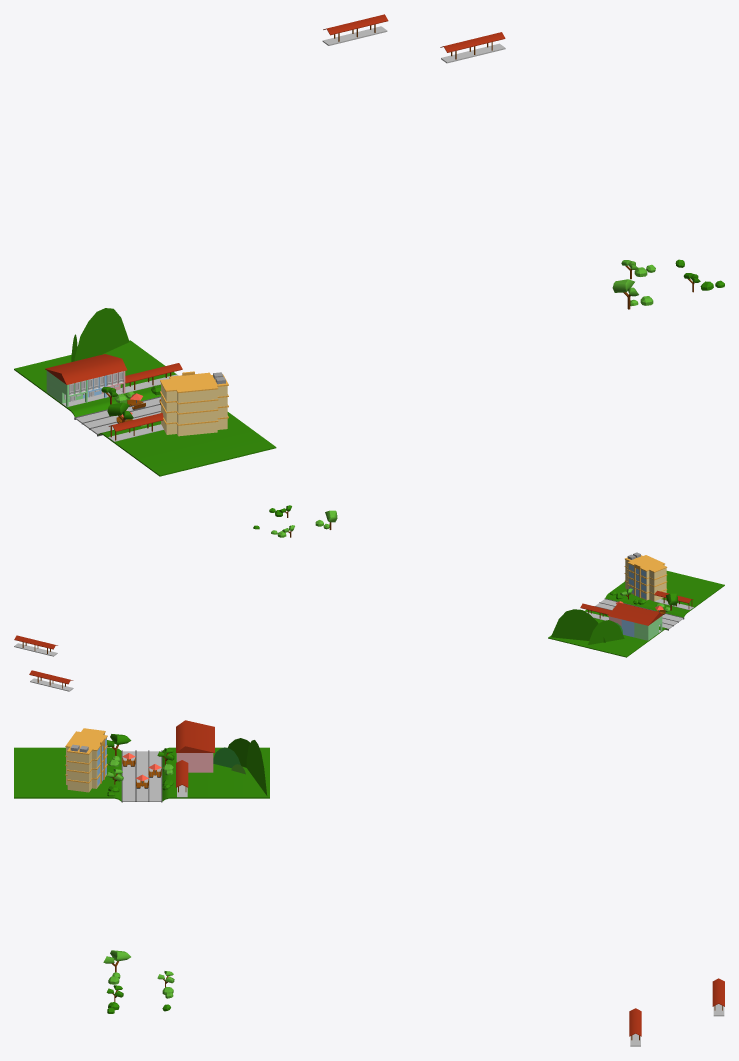
File: Level 3 Chunk 1.fbx
The picture shows the model from 3 angles, top to bottom: view 1: azimuth 30°, elevation 25°; view 2: azimuth 150°, elevation 25°; view 3: azimuth 270°, elevation 25°; orthographic projection. The views are drawn at different scales.
Visible parts, largest first — view 1: pCube6861, pPlane1036, Triple_shop_houses18, pCube6862, pasted__pasted__pCube5519, pCube6856; view 2: pCube6861, pPlane1036, Triple_shop_houses18, pasted__pasted__pCube5519, pCube6862, pasted__pCube5622, pCube6856; view 3: pCube6861, pCube6862, pPlane1036, Triple_shop_houses18, pCube6856, pasted__pasted__pCube5519.
Part boxes in pixels (x1=…): pCube6861: x1=98, y1=412, x2=276, y2=476; pPlane1036: x1=160, y1=371, x2=228, y2=436; Triple_shop_houses18: x1=45, y1=354, x2=127, y2=407; pCube6862: x1=14, y1=340, x2=176, y2=417; pasted__pasted__pCube5519: x1=74, y1=308, x2=129, y2=361; pCube6856: x1=76, y1=397, x2=160, y2=434; pCube6861: x1=605, y1=571, x2=724, y2=617; pPlane1036: x1=624, y1=552, x2=667, y2=601; Triple_shop_houses18: x1=607, y1=602, x2=662, y2=640; pasted__pasted__pCube5519: x1=551, y1=609, x2=605, y2=642; pCube6862: x1=548, y1=609, x2=667, y2=657; pasted__pCube5622: x1=588, y1=620, x2=624, y2=644; pCube6856: x1=595, y1=599, x2=683, y2=628; pCube6861: x1=14, y1=747, x2=121, y2=801; pCube6862: x1=162, y1=747, x2=269, y2=801; pPlane1036: x1=65, y1=728, x2=107, y2=792; Triple_shop_houses18: x1=176, y1=720, x2=214, y2=772; pCube6856: x1=122, y1=751, x2=161, y2=801; pasted__pasted__pCube5519: x1=246, y1=740, x2=267, y2=795.
Size of the model in its own units: 73.37 by 5.38 by 73.74.
1 material, 1 textured.
